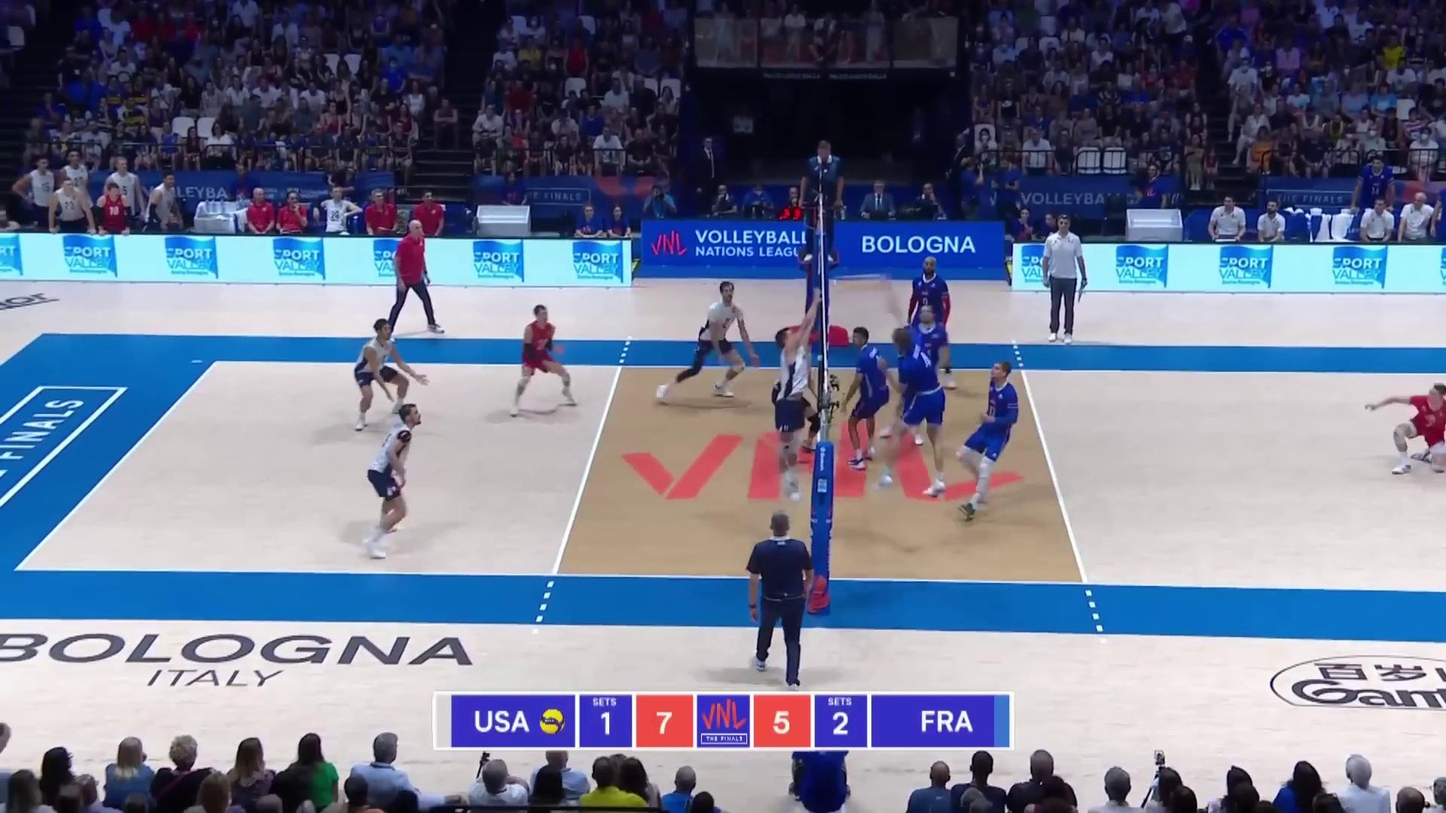player: (952, 357, 1027, 513), (894, 326, 957, 507), (667, 287, 761, 407), (880, 306, 950, 440), (361, 404, 422, 554), (355, 321, 431, 430), (770, 318, 816, 497), (904, 255, 960, 392), (505, 307, 574, 415), (846, 320, 895, 471), (1374, 385, 1446, 476), (770, 365, 819, 452)
refree: (749, 517, 816, 678), (802, 140, 841, 260)
